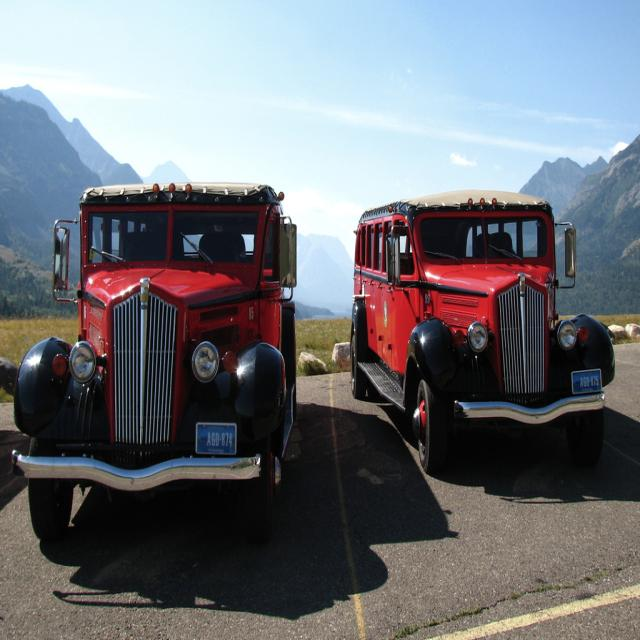car: (12, 177, 300, 540), (349, 188, 611, 473)
